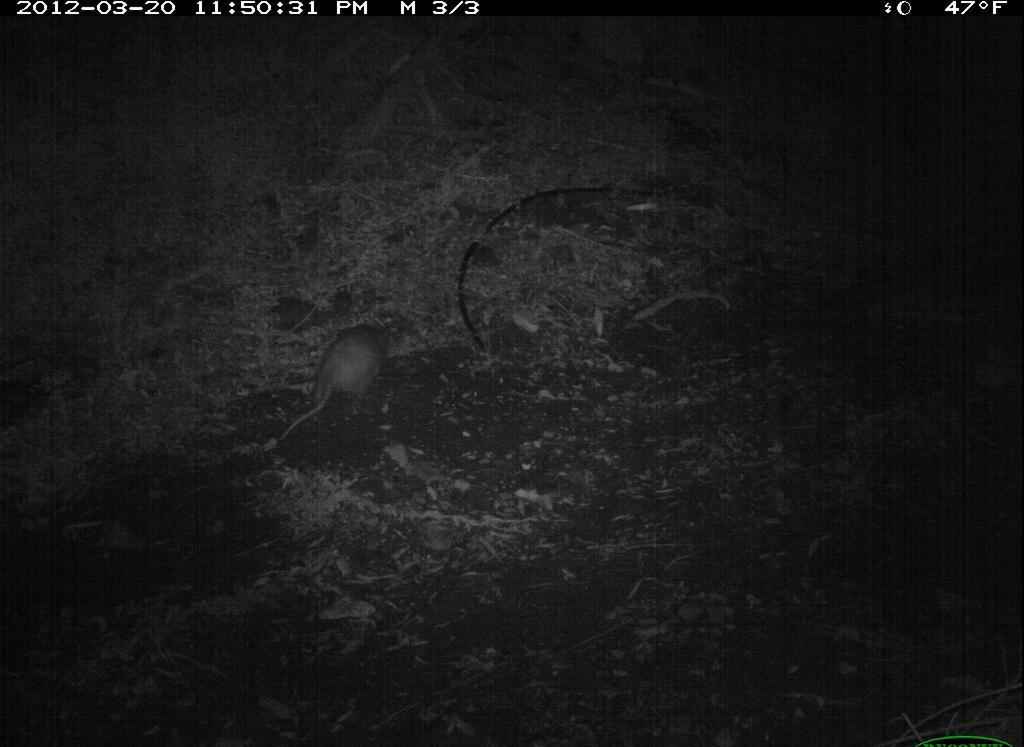opossum: (268, 308, 422, 452)
